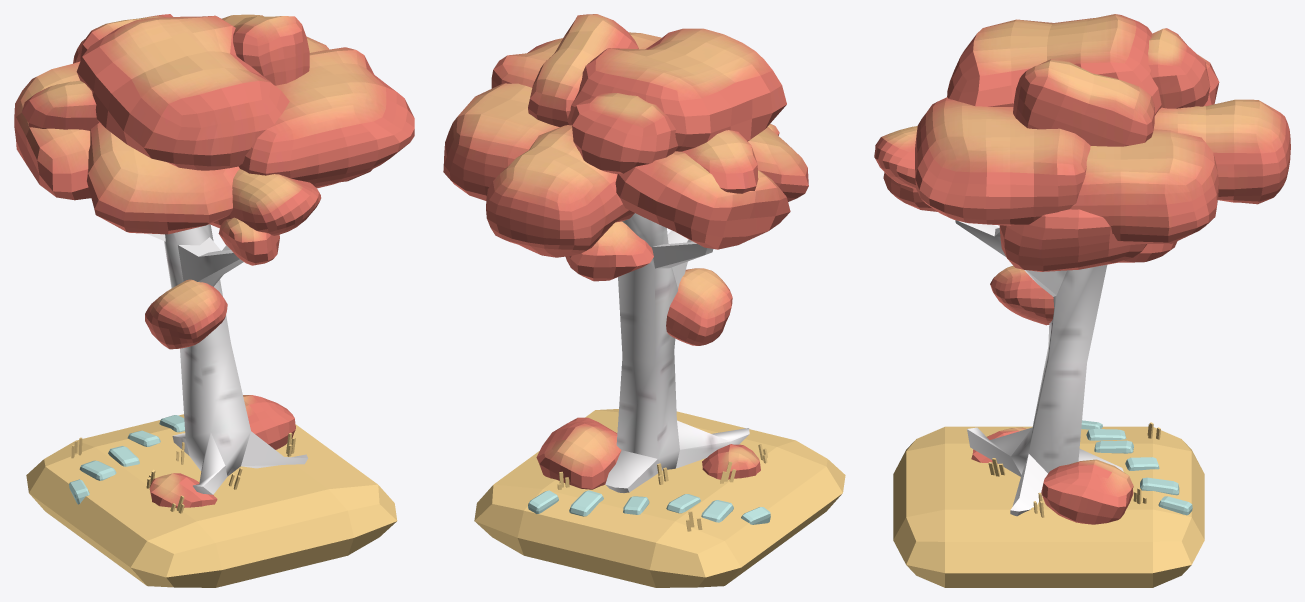
The model's file is tree_birch.glb.
3 views of the same model, side by side, from view 1: azimuth 30°, elevation 25°; view 2: azimuth 150°, elevation 25°; view 3: azimuth 270°, elevation 25° (orthographic). The views are drawn at different scales.
Parts seen in each view (by area): view 1: pPlane1, pCube7, pCube11, pCube1, pCube12, pCube4, pCube2, pCube15, pCube3, pCube5, pasted__pCube8, pCube6 (+2 smaller); view 2: pPlane1, pCube1, pCube7, pCube9, pCube4, pCube13, pCube10, pCube15, pasted__pCube8, pCube3, pCube8, pCube5 (+4 smaller); view 3: pPlane1, pCube11, pCube1, pCube13, pCube7, pCube15, pCube9, pCube14, pasted__pCube8, pCube10, pCube3, pCube2 (+2 smaller).
Part boxes in pixels (x1=…): pPlane1: x1=26, y1=414, x2=397, y2=587; pCube7: x1=76, y1=15, x2=289, y2=170; pCube11: x1=239, y1=47, x2=414, y2=188; pCube1: x1=147, y1=224, x2=308, y2=494; pCube12: x1=87, y1=123, x2=239, y2=234; pCube4: x1=14, y1=61, x2=91, y2=200; pCube2: x1=209, y1=169, x2=321, y2=235; pCube15: x1=221, y1=14, x2=309, y2=85; pCube3: x1=145, y1=279, x2=227, y2=349; pCube5: x1=22, y1=80, x2=99, y2=130; pasted__pCube8: x1=243, y1=395, x2=295, y2=449; pCube6: x1=218, y1=217, x2=279, y2=265; pPlane1: x1=474, y1=409, x2=845, y2=587; pCube1: x1=605, y1=213, x2=749, y2=492; pCube7: x1=567, y1=28, x2=786, y2=151; pCube9: x1=486, y1=125, x2=634, y2=257; pCube4: x1=615, y1=151, x2=790, y2=249; pCube13: x1=443, y1=83, x2=559, y2=200; pCube10: x1=571, y1=93, x2=678, y2=174; pCube15: x1=528, y1=14, x2=638, y2=126; pasted__pCube8: x1=536, y1=417, x2=621, y2=489; pCube3: x1=666, y1=268, x2=732, y2=345; pCube8: x1=565, y1=221, x2=653, y2=281; pCube5: x1=682, y1=130, x2=758, y2=193; pPlane1: x1=893, y1=426, x2=1204, y2=587; pCube11: x1=915, y1=97, x2=1090, y2=226; pCube1: x1=955, y1=220, x2=1123, y2=516; pCube13: x1=1070, y1=129, x2=1218, y2=243; pCube7: x1=947, y1=14, x2=1161, y2=115; pCube15: x1=1013, y1=59, x2=1154, y2=146; pCube9: x1=1153, y1=99, x2=1290, y2=204; pCube14: x1=999, y1=209, x2=1146, y2=271; pasted__pCube8: x1=1041, y1=459, x2=1133, y2=524; pCube10: x1=1148, y1=28, x2=1210, y2=108; pCube3: x1=990, y1=265, x2=1054, y2=325; pCube2: x1=874, y1=126, x2=917, y2=189.
Size of the model in its own units: 8.08 by 12 by 8.96.
Materials: 4 (1 with a texture image).
